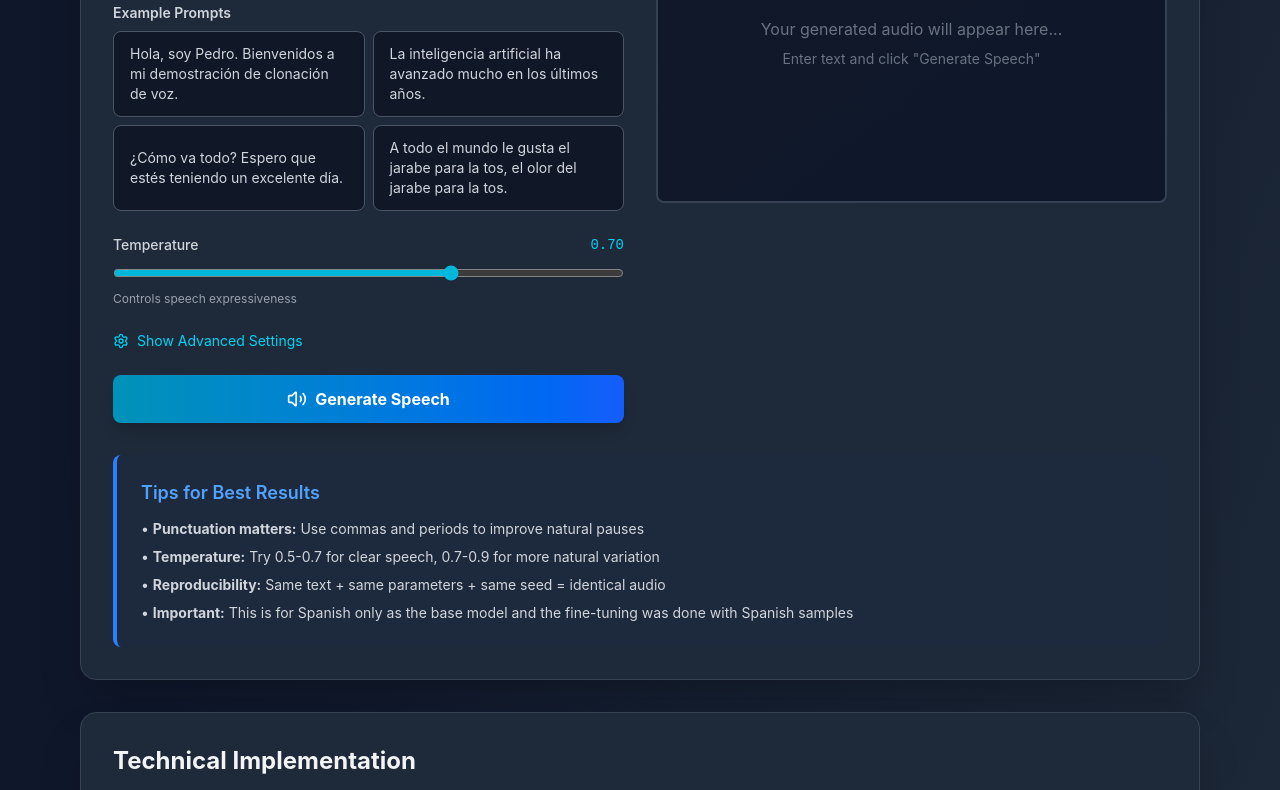
App › labels every control
(page scrolled)
Click the button "Show Advanced Settings": click(208, 340) [113,330,303,350]
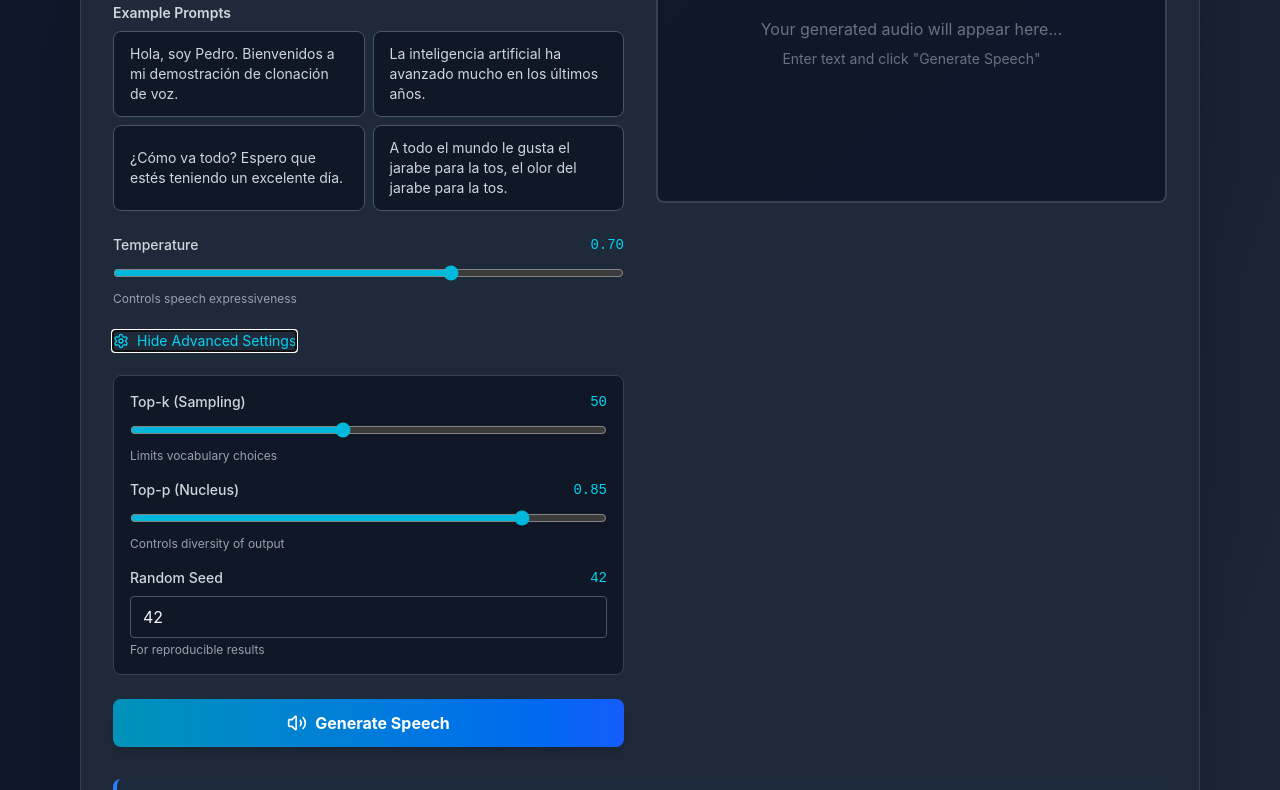
Expected: the slider labelled "Top-k (Sampling)" is shown, [130,422,607,438]
Expected: the slider labelled "Top-p (Nucleus)" is shown, [130,510,607,526]
Expected: the number field labelled "Random Seed" is shown, [130,596,607,638]
